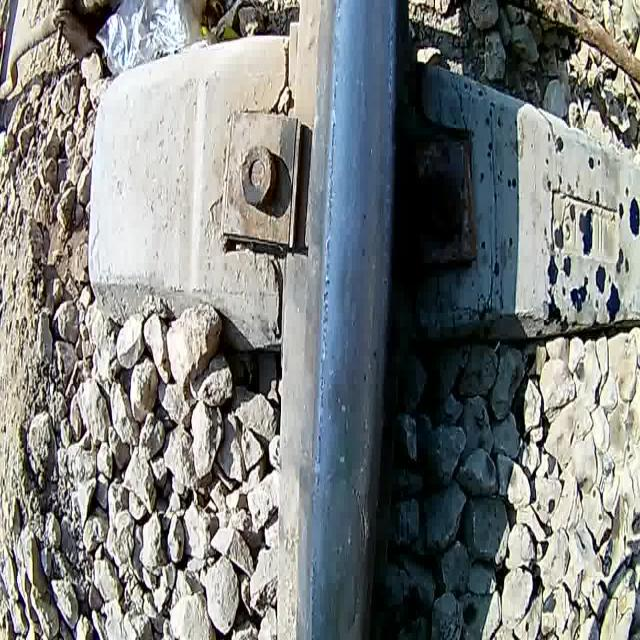Cracks: (338, 460, 374, 640)
Flakings: (310, 20, 343, 640)
Squats: (317, 350, 372, 488), (306, 564, 348, 640)
